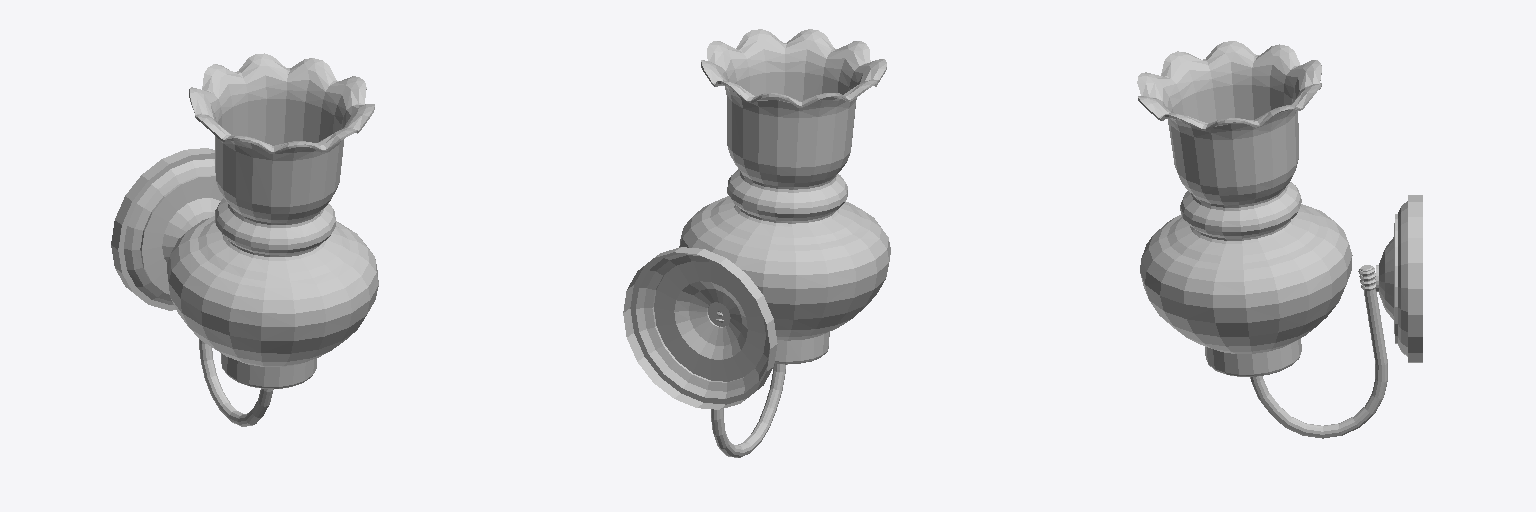
File: LightWallMounted.obj
3 renders of one model, left to right at view 1: azimuth 30°, elevation 25°; view 2: azimuth 150°, elevation 25°; view 3: azimuth 270°, elevation 25°, orthographic.
Parts seen in each view (by area): view 1: SM_WallLight_01b, SM_WallLight_01a; view 2: SM_WallLight_01b, SM_WallLight_01a; view 3: SM_WallLight_01b, SM_WallLight_01a.
Part boxes in pixels (x1,y1,x2,y2): SM_WallLight_01b: (167, 53, 378, 366); SM_WallLight_01a: (111, 148, 316, 426); SM_WallLight_01b: (679, 29, 890, 340); SM_WallLight_01a: (623, 247, 829, 457); SM_WallLight_01b: (1137, 41, 1352, 353); SM_WallLight_01a: (1205, 195, 1422, 438).
Bounding box in the file's own units: 0.1191 × 0.2241 × 0.1591.